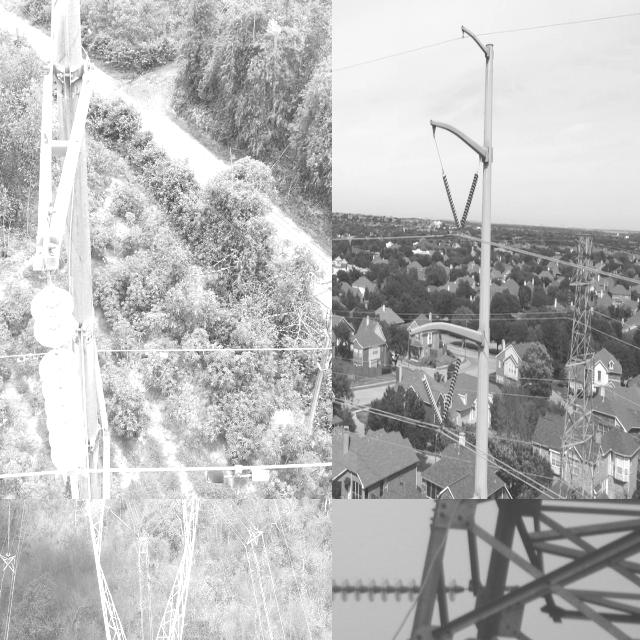杆塔: (332, 499, 640, 640), (8, 499, 273, 640), (555, 229, 600, 499)
正常电缆: (0, 447, 332, 486), (123, 333, 332, 370)
正常绝缘子: (30, 286, 89, 478), (332, 574, 470, 609), (440, 357, 463, 426), (441, 170, 463, 233), (458, 172, 480, 233), (421, 372, 444, 427), (562, 364, 569, 408), (565, 282, 574, 314), (558, 449, 564, 484), (591, 356, 596, 389)
绝缘子破损: (50, 347, 62, 358)
